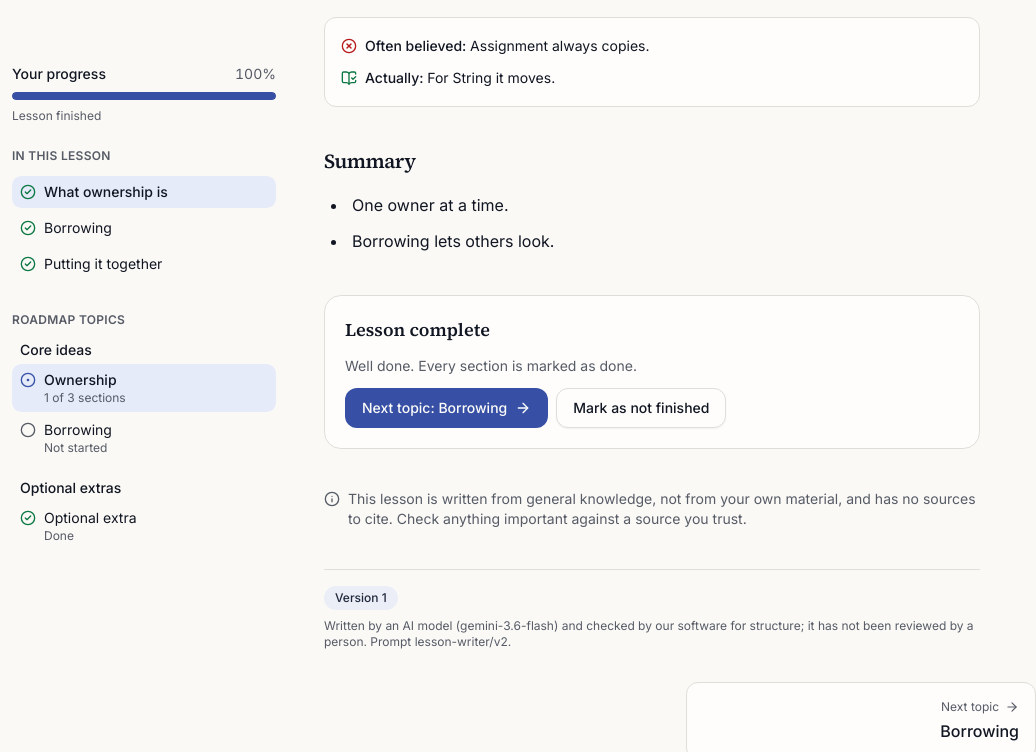
Test: tracking progress › can take a finished lesson back to unfinished
(page scrolled)
What coordinates should you click on to do the following:
click the button "Mark as not finished"
I would click on:
 (641, 408)
Its box is [556,388,726,428].
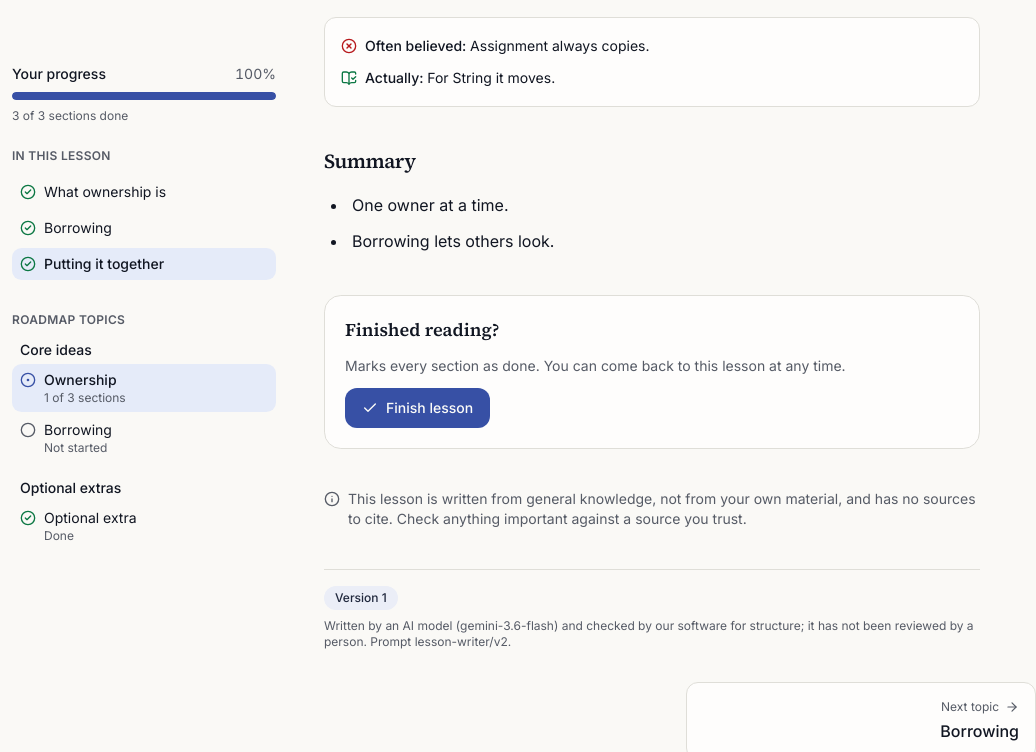
Result: the heading "Finished reading?" is shown at [345,317,500,342]
